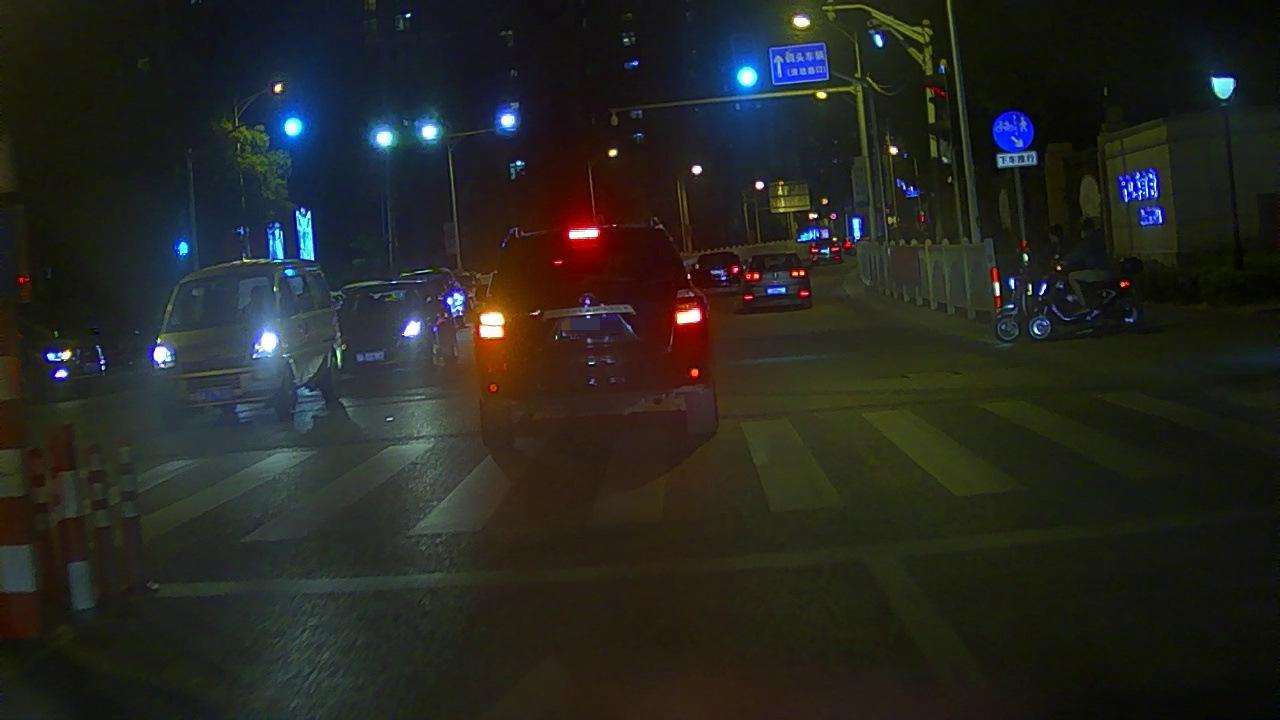traffic_light: (272, 107, 313, 145), (731, 62, 763, 93), (493, 103, 522, 135), (416, 118, 444, 148), (366, 126, 398, 152)
